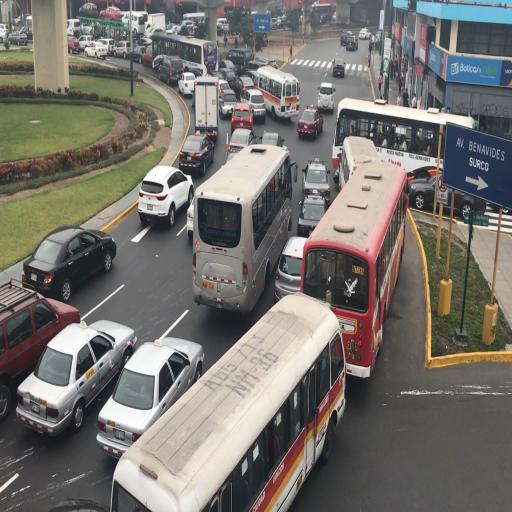auto: (16, 316, 136, 434), (95, 335, 201, 456), (22, 224, 116, 301), (138, 164, 193, 226), (274, 233, 308, 299), (179, 133, 215, 175), (296, 193, 328, 238), (302, 157, 330, 203), (44, 497, 110, 512), (240, 87, 266, 124), (226, 125, 256, 157), (297, 104, 323, 139), (158, 54, 186, 86), (230, 100, 254, 132), (217, 84, 237, 117), (242, 59, 270, 82), (234, 74, 256, 103), (214, 60, 238, 86), (318, 81, 336, 111), (131, 42, 153, 64), (182, 57, 204, 79), (179, 71, 196, 97), (113, 40, 134, 60), (99, 6, 124, 22), (84, 42, 106, 60), (175, 19, 196, 36), (96, 38, 115, 56), (79, 19, 98, 36), (9, 30, 28, 45), (66, 18, 81, 37), (106, 25, 124, 40), (332, 58, 346, 77), (79, 2, 98, 16), (258, 57, 278, 70), (77, 35, 94, 50), (152, 54, 165, 72), (68, 36, 80, 54), (120, 13, 131, 32), (345, 35, 358, 51), (340, 30, 353, 46), (358, 27, 371, 39), (374, 30, 383, 46), (165, 24, 178, 35), (0, 24, 9, 38), (270, 17, 279, 30), (276, 16, 285, 28), (223, 21, 230, 34)
bus: (116, 300, 331, 506), (298, 149, 401, 371), (334, 98, 468, 191), (253, 64, 299, 123), (340, 134, 382, 194), (226, 48, 254, 76), (122, 10, 149, 35), (140, 12, 166, 37), (310, 2, 336, 25), (182, 12, 205, 27)
camion: (194, 76, 220, 140)
